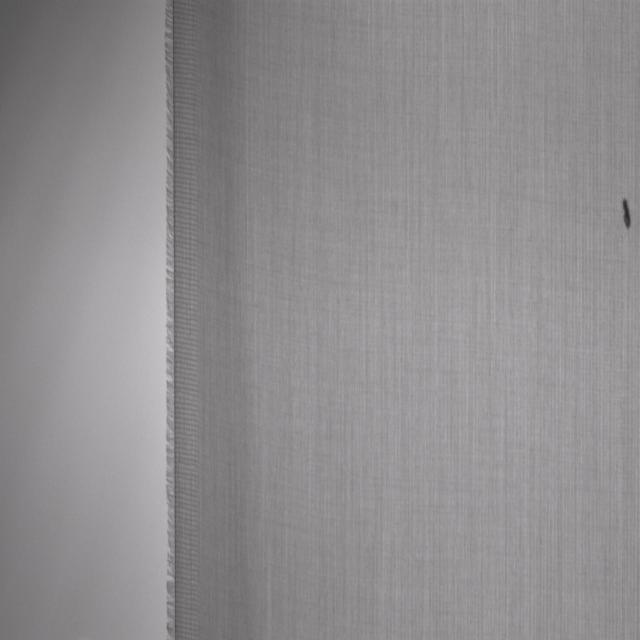dirty: (622, 196, 632, 231)
